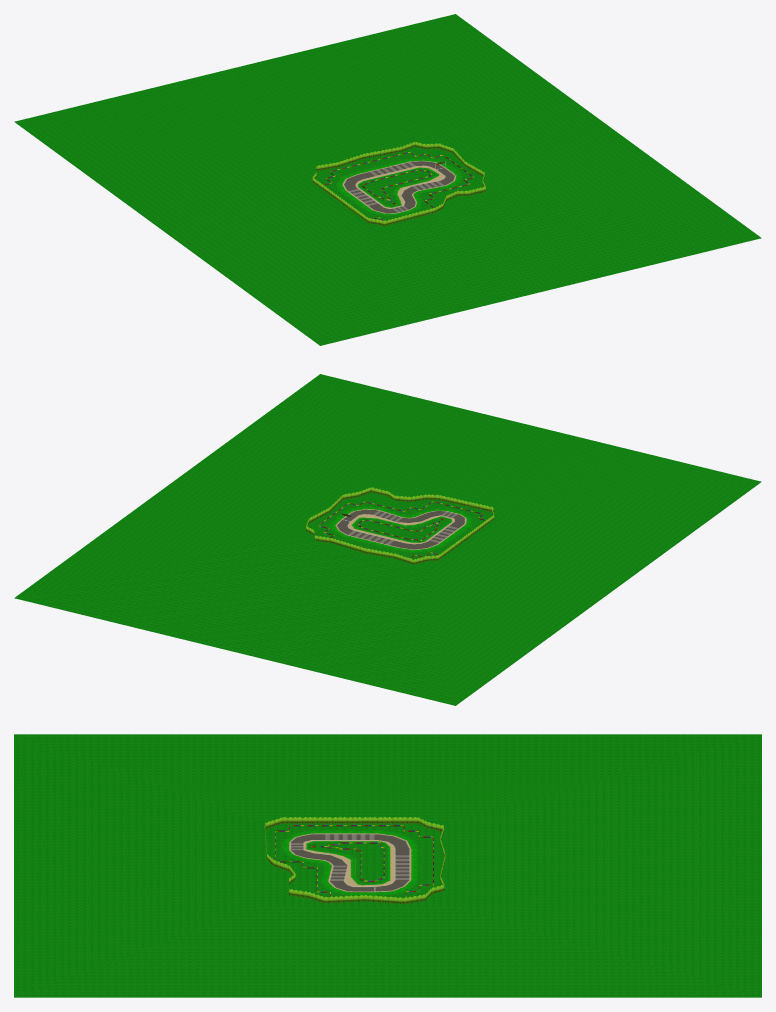
The model's file is course_model.obj.
3 views of the same model, one above another, from view 1: azimuth 30°, elevation 25°; view 2: azimuth 150°, elevation 25°; view 3: azimuth 270°, elevation 25° (orthographic). The views are drawn at different scales.
Size of the model in its own units: 12596 by 277 by 15127.
